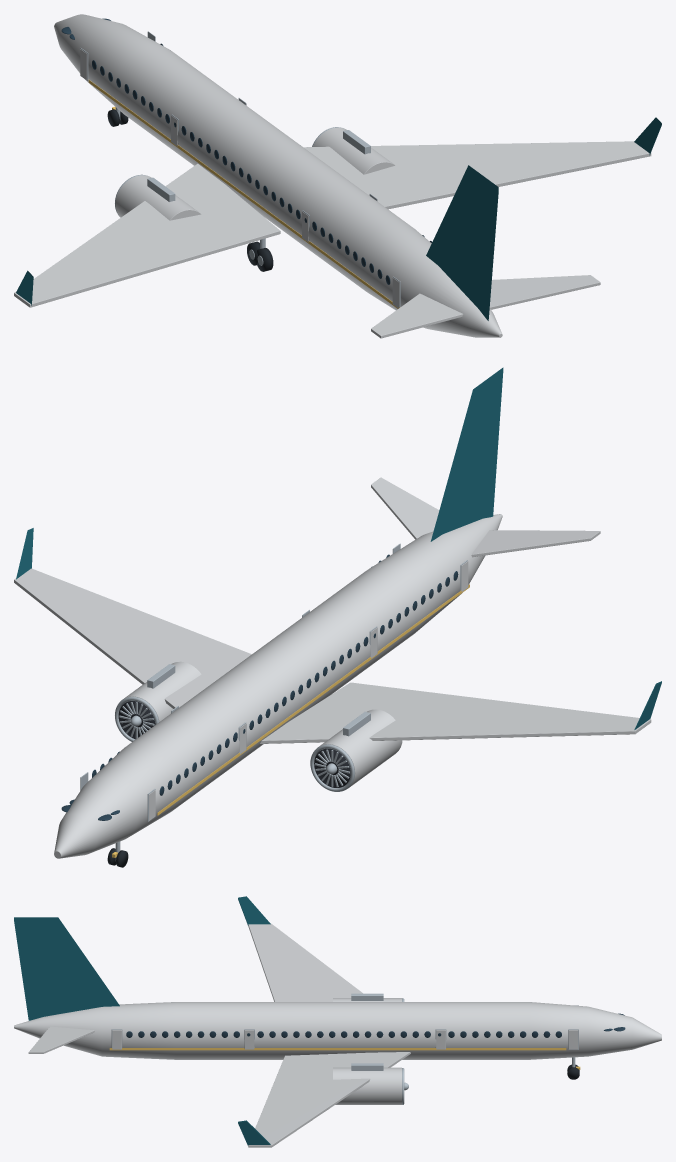
Rendered from Aircraft_A321_Illustrative.glb.
3 views of the same model, one above another, from view 1: azimuth 30°, elevation 25°; view 2: azimuth 150°, elevation 25°; view 3: azimuth 270°, elevation 25° (orthographic). The views are drawn at different scales.
Parts seen in each view (by area): view 1: Door panel, Vertical stabilizer, Cabin window, Door seam, Livery stripe, Main wheel; view 2: Door panel, Vertical stabilizer, Door seam, Cabin window, Intake shadow, Livery stripe; view 3: Door panel, Vertical stabilizer, Cabin window, Livery stripe, Door seam.
Part boxes in pixels (x1,y1,x2,y2): Door panel: (14,14,651,338); Vertical stabilizer: (16,117,661,320); Cabin window: (61,18,432,284); Door seam: (80,31,400,307); Livery stripe: (88,80,399,308); Main wheel: (107,109,273,271); Door panel: (14,477,651,858); Vertical stabilizer: (16,367,661,729); Door seam: (80,543,467,860); Cabin window: (61,554,458,820); Intake shadow: (118,701,350,787); Livery stripe: (112,584,469,857); Door panel: (14,923,661,1147); Vertical stabilizer: (14,896,270,1145); Cabin window: (126,1013,625,1037); Livery stripe: (109,1048,580,1069); Door seam: (111,993,578,1104).
Size of the model in its own units: 36 by 11.96 by 44.
